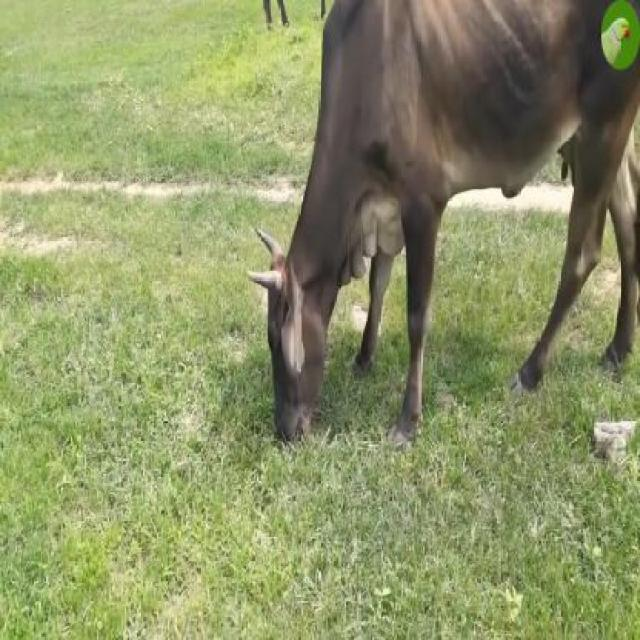Cow: (264, 0, 638, 440)
